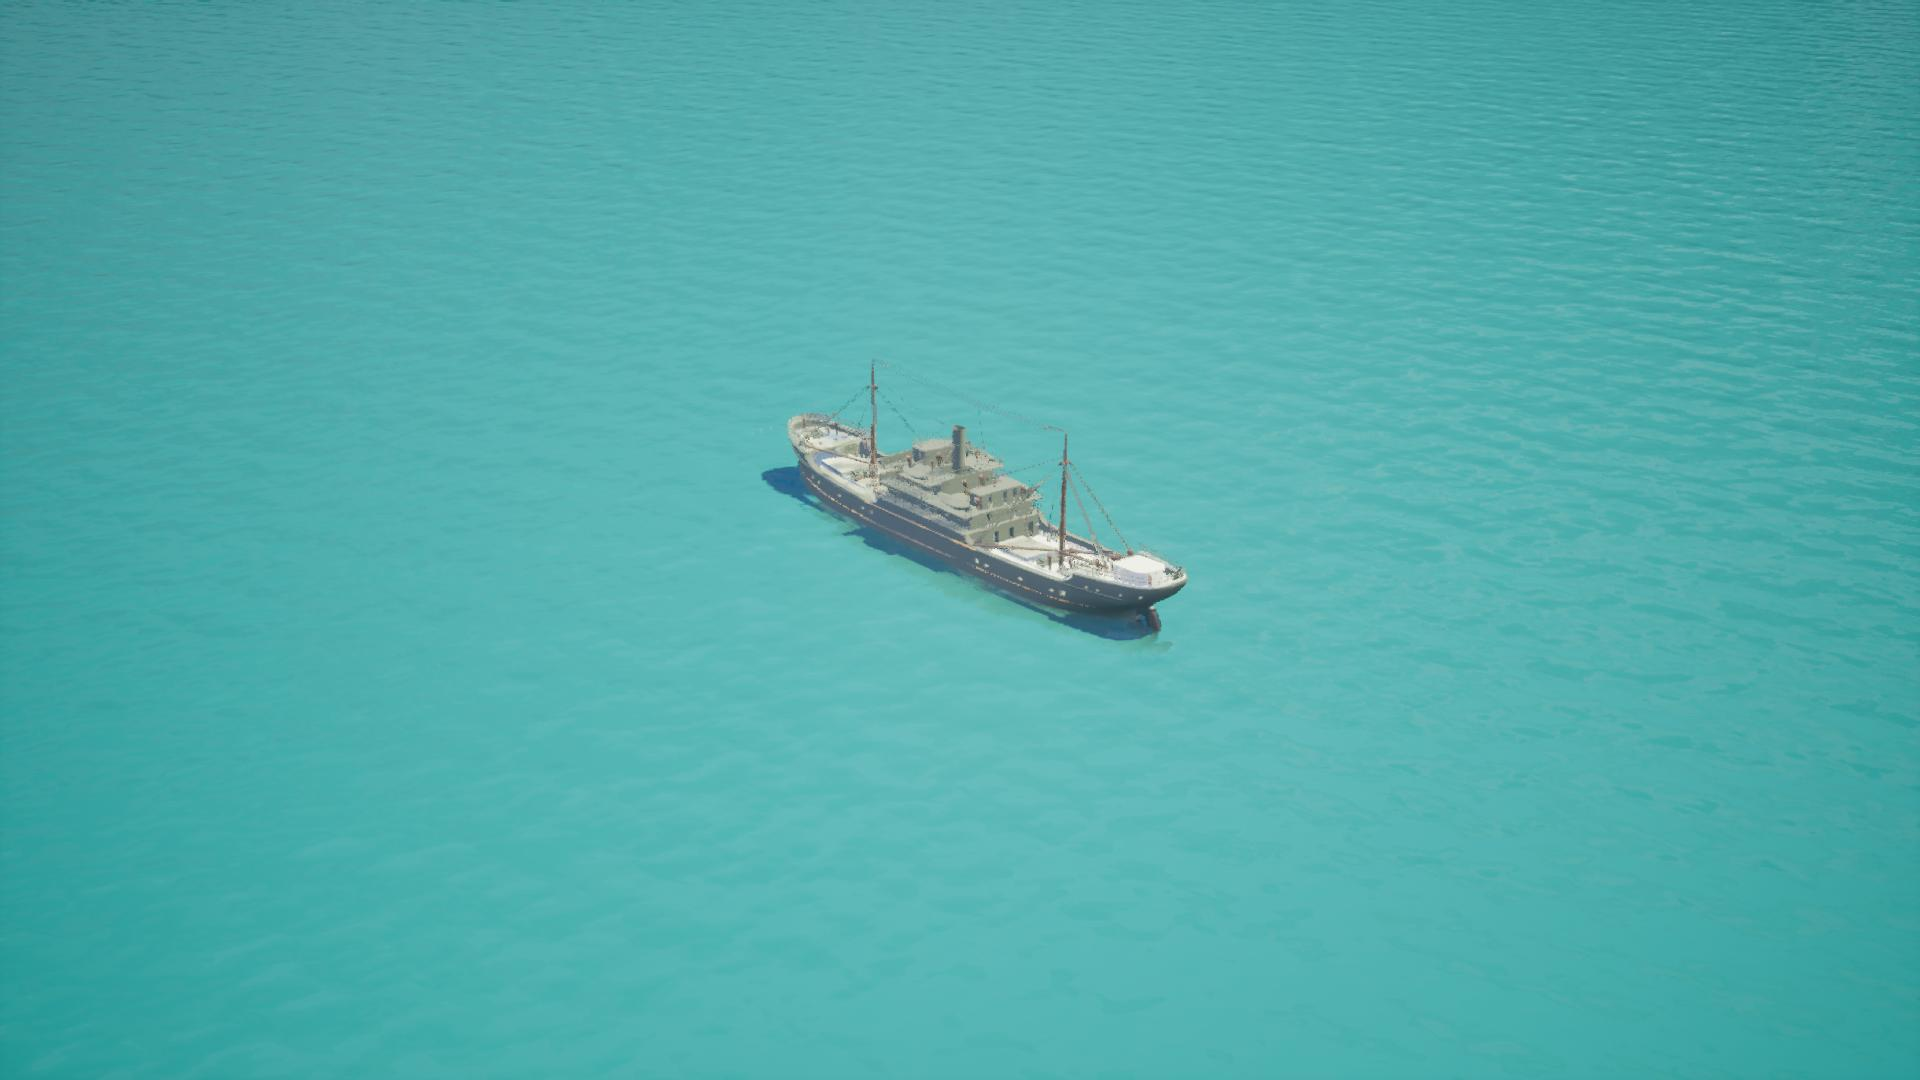Fishing Boat: (767, 359, 1189, 634)
